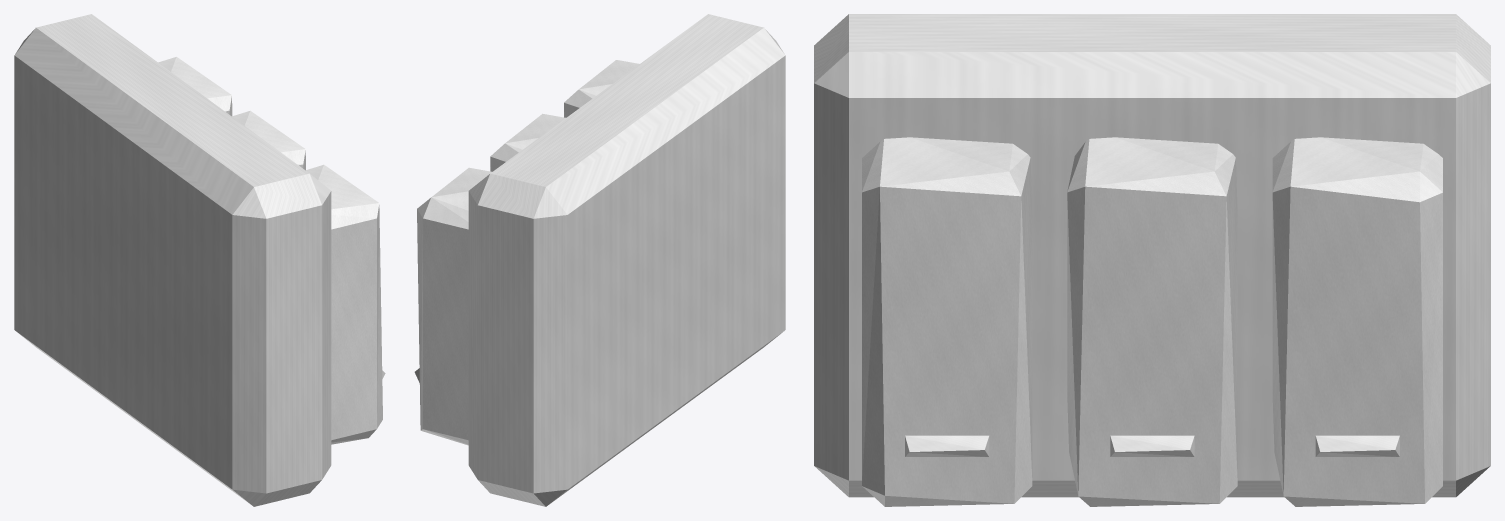
The model's file is Field_Medic_Cartridge_Rack_LOD1.glb.
3 views of the same model, side by side, from view 1: azimuth 30°, elevation 25°; view 2: azimuth 150°, elevation 25°; view 3: azimuth 270°, elevation 25° (orthographic). The views are drawn at different scales.
Parts seen in each view (by area): view 1: Field_Medic_Cartridge_Rack_LOD1; view 2: Field_Medic_Cartridge_Rack_LOD1; view 3: Field_Medic_Cartridge_Rack_LOD1.
Boxes of the visible parts, x1,y1,x2,y2 form: Field_Medic_Cartridge_Rack_LOD1: (14, 14, 385, 506); Field_Medic_Cartridge_Rack_LOD1: (414, 14, 785, 506); Field_Medic_Cartridge_Rack_LOD1: (814, 14, 1490, 506).
Size of the model in its own units: 0.0973 by 0.17 by 0.234.
Materials: 3 (3 with a texture image).
